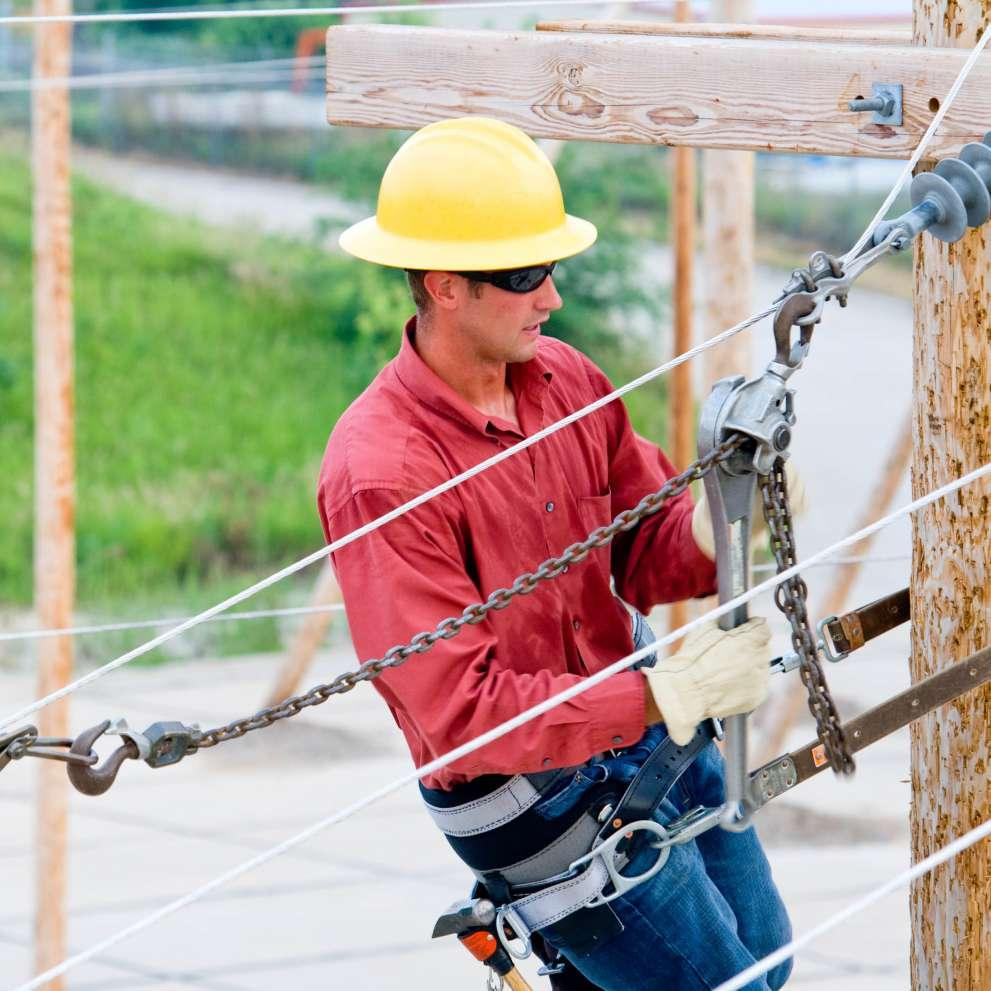helmet: (340, 116, 600, 280)
